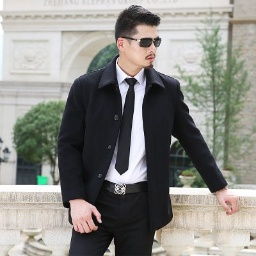face: (114, 5, 159, 69)
